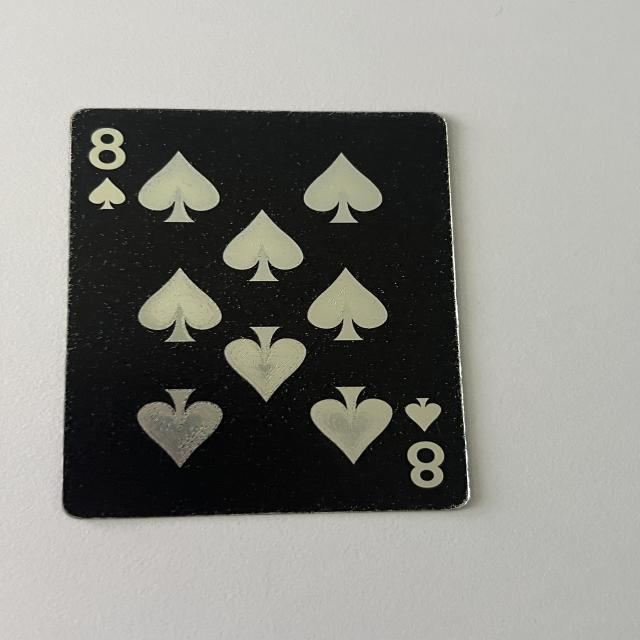8S: (399, 391, 457, 493), (82, 125, 134, 216)
